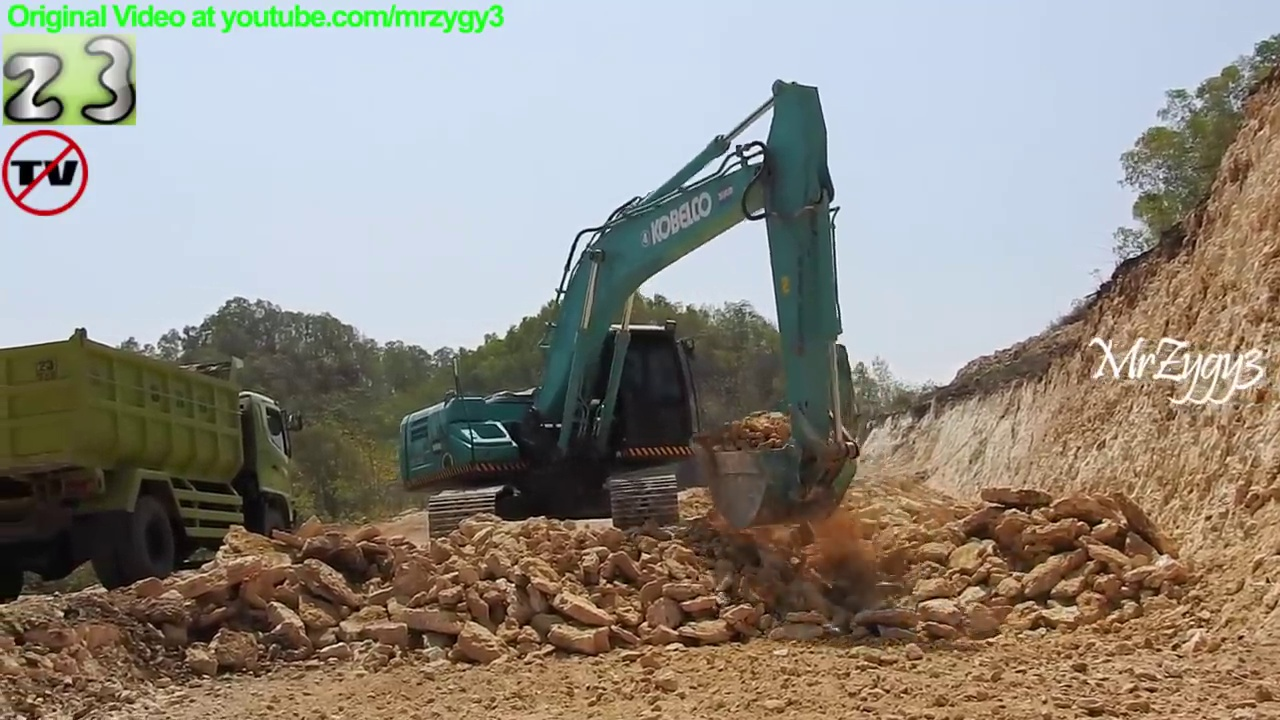excavator: (393, 71, 869, 565), (719, 340, 874, 521)
truck: (1, 324, 317, 613)
